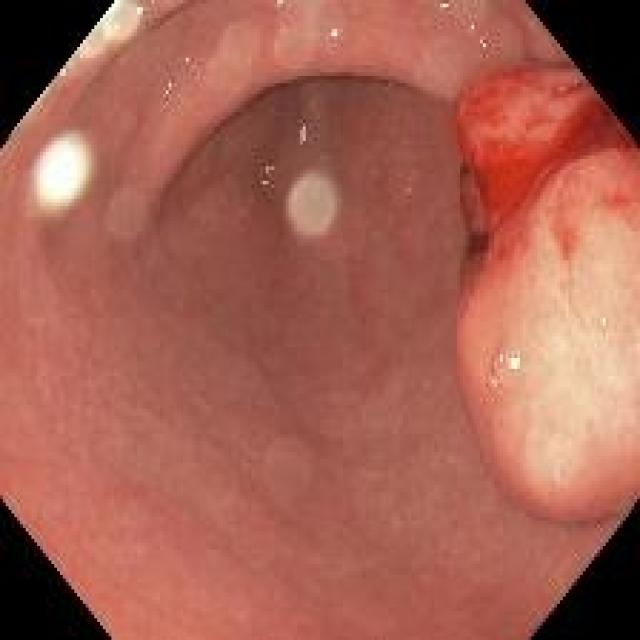Polyps: (450, 63, 640, 524)
